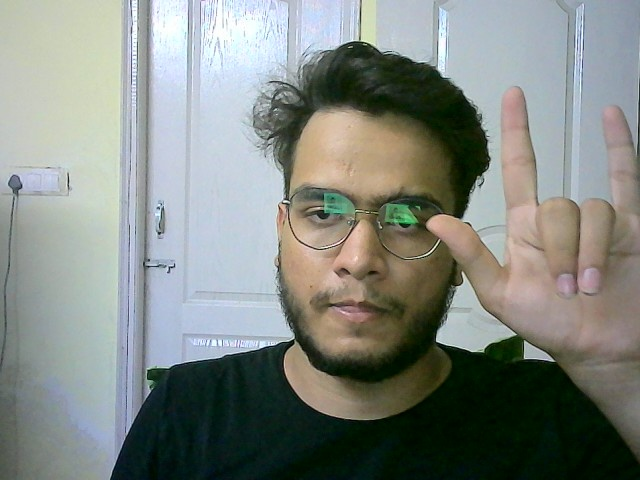I Love You: (487, 79, 640, 371)
